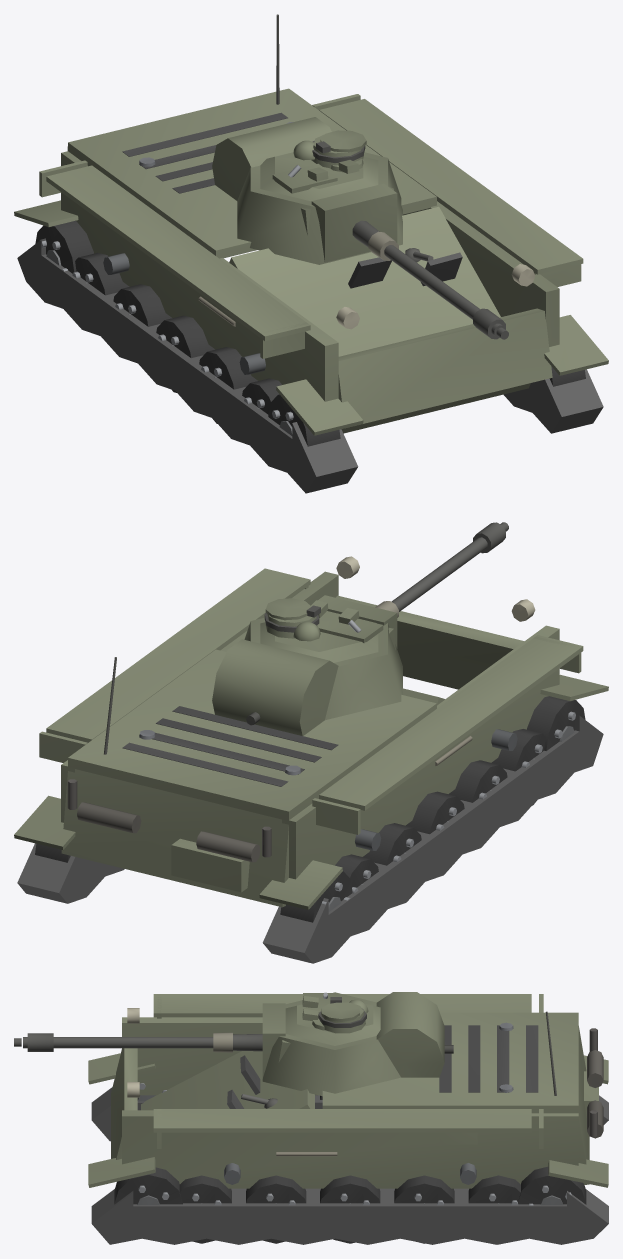
3 views of the same model, one above another, from view 1: azimuth 30°, elevation 25°; view 2: azimuth 150°, elevation 25°; view 3: azimuth 270°, elevation 25° (orthographic). The views are drawn at different scales.
Visible parts, largest first — view 1: hullSide, tracks, glacis, hullTop, lowerPlate, turretSide, turretRoof, mantlet, turretRear, barrel, wheel6, wheel2 (+5 smaller); view 2: hullSide, hullTop, tracks, hullRear, turretRear, lowerPlate, turretRoof, turretSide, barrel, wheel5, wheel2, wheel3 (+5 smaller); view 3: hullSide, tracks, hullTop, turretSide, glacis, turretRear, turretRoof, barrel, hullRear, wheel12, lowerPlate, wheel13 (+6 smaller).
Boxes of the visible parts, bbox=[...] form: hullSide: bbox=[39, 94, 583, 401]; tracks: bbox=[14, 200, 608, 493]; glacis: bbox=[229, 206, 530, 433]; hullTop: bbox=[68, 88, 436, 258]; lowerPlate: bbox=[338, 308, 552, 423]; turretSide: bbox=[237, 152, 402, 264]; turretRoof: bbox=[260, 130, 378, 201]; mantlet: bbox=[311, 183, 397, 262]; turretRear: bbox=[212, 117, 331, 200]; barrel: bbox=[352, 220, 508, 339]; wheel6: bbox=[35, 221, 93, 273]; wheel2: bbox=[156, 315, 214, 392]; hullSide: bbox=[39, 556, 583, 879]; hullTop: bbox=[68, 649, 436, 820]; tracks: bbox=[14, 674, 608, 963]; hullRear: bbox=[61, 657, 289, 907]; turretRear: bbox=[212, 639, 338, 735]; lowerPlate: bbox=[336, 595, 524, 689]; turretRoof: bbox=[260, 598, 383, 662]; turretSide: bbox=[244, 617, 402, 720]; barrel: bbox=[375, 522, 508, 617]; wheel5: bbox=[527, 696, 585, 750]; wheel2: bbox=[406, 791, 464, 834]; wheel3: bbox=[448, 760, 507, 802]; hullSide: bbox=[122, 994, 578, 1188]; tracks: bbox=[88, 1053, 608, 1244]; hullTop: bbox=[322, 1012, 578, 1113]; turretSide: bbox=[262, 992, 400, 1096]; glacis: bbox=[141, 1051, 314, 1110]; turretRear: bbox=[376, 992, 453, 1077]; turretRoof: bbox=[285, 992, 380, 1045]; barrel: bbox=[14, 1032, 262, 1052]; hullRear: bbox=[545, 1011, 603, 1184]; wheel12: bbox=[114, 1167, 182, 1205]; lowerPlate: bbox=[111, 1048, 137, 1159]; wheel13: bbox=[518, 1166, 586, 1205].
Size of the model in its own units: 4.18 by 3.02 by 7.82.
